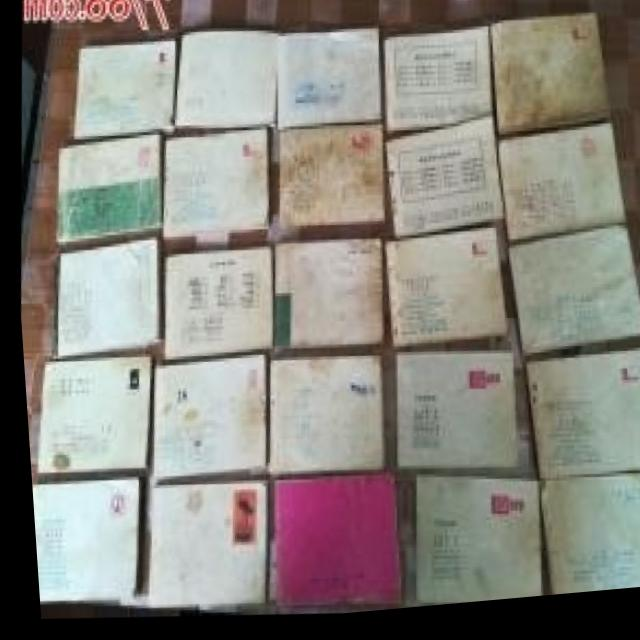box: (256, 478, 389, 613), (505, 239, 640, 365), (520, 356, 640, 493), (131, 484, 258, 613), (409, 484, 533, 611), (33, 344, 149, 478), (389, 353, 510, 481), (487, 21, 608, 146), (142, 359, 260, 484), (258, 359, 378, 481), (382, 123, 501, 245), (498, 134, 621, 251), (382, 236, 503, 353), (27, 476, 140, 600), (532, 482, 640, 605), (159, 134, 267, 257), (157, 248, 267, 362), (269, 245, 378, 359), (52, 137, 159, 251), (54, 242, 158, 359), (382, 29, 487, 140), (170, 35, 279, 140), (269, 131, 381, 233), (69, 44, 174, 146), (277, 35, 380, 134)
